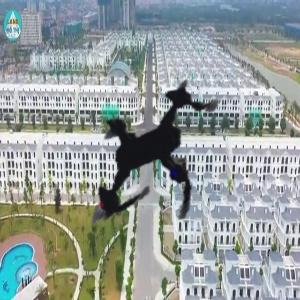drone: (2, 3, 300, 300)
